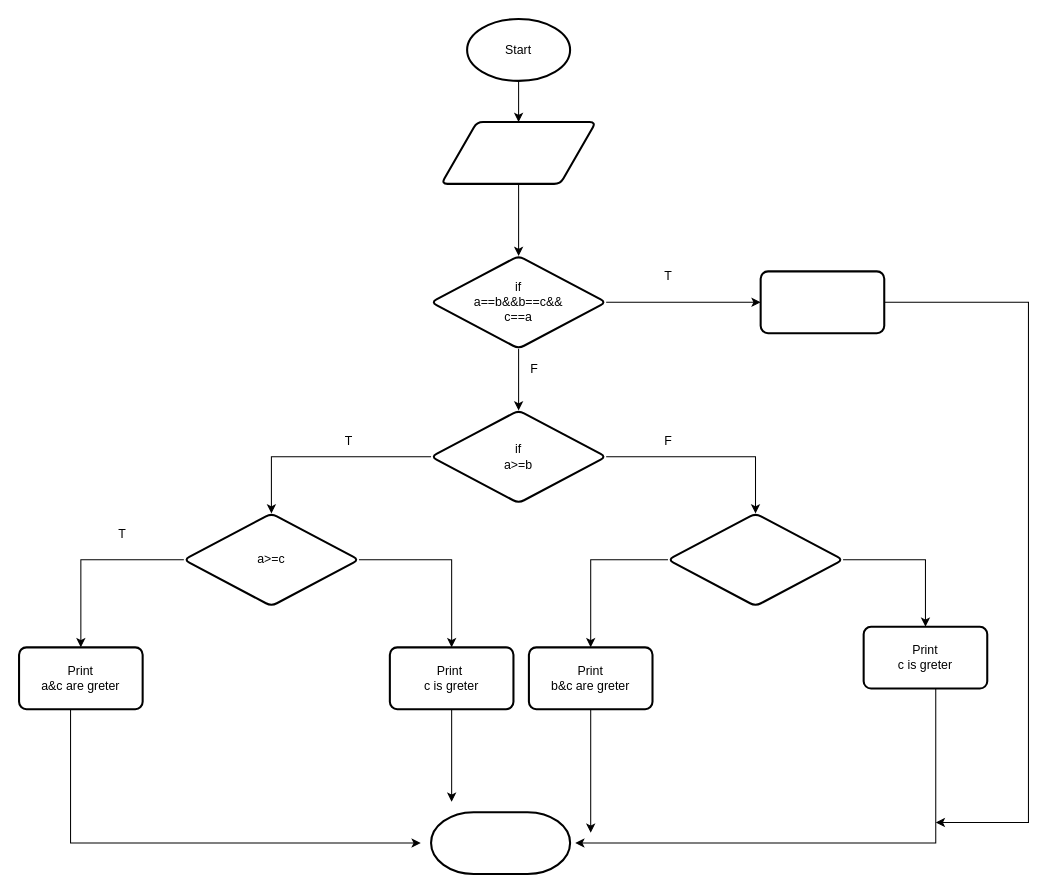
This 1055x892 diagram has some shape labels left out. Each missing label, with the centre of its shape:
"if b>=c" goes at pixel 755 559.
"Inputs a b c" goes at pixel 518 152.
"Print Inputs are equals" goes at pixel 822 302.
"Stop" goes at pixel 500 842.
